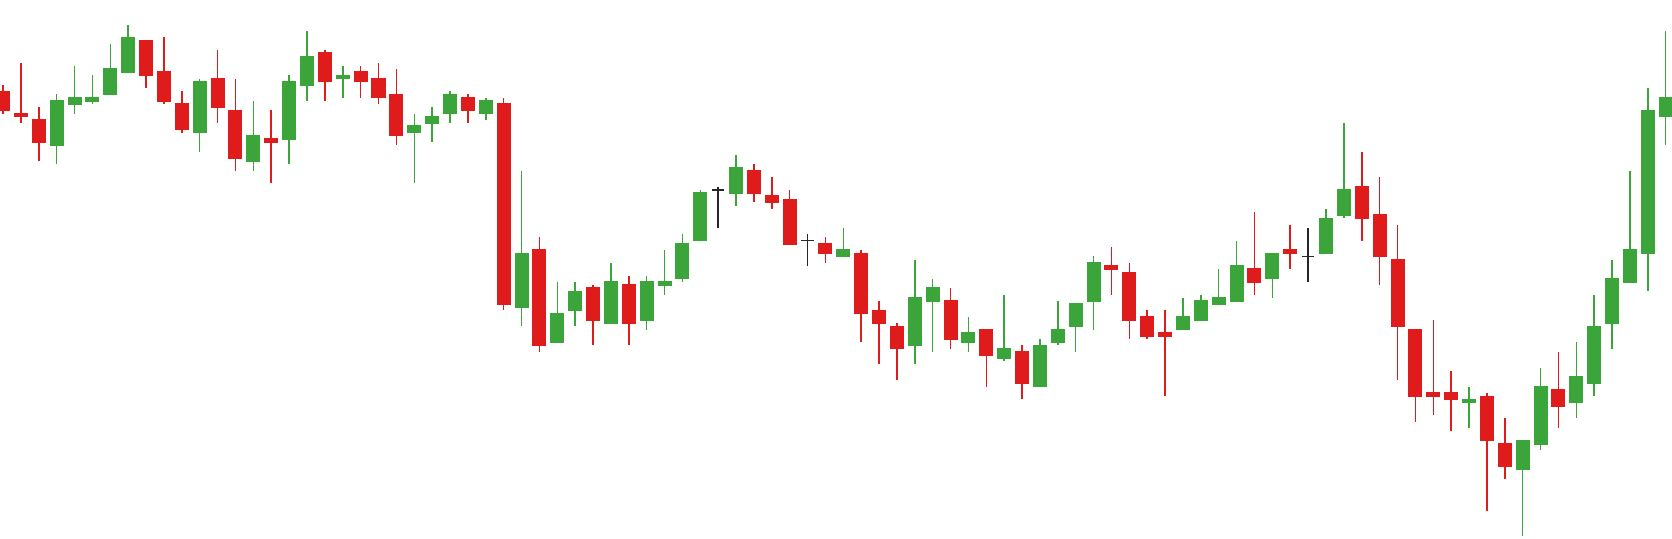sell: (209, 31, 333, 128)
